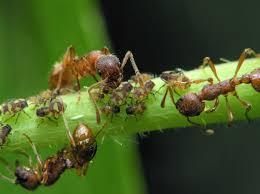Insects: (160, 48, 260, 134), (1, 113, 108, 193), (43, 41, 148, 98), (34, 97, 69, 125), (1, 95, 34, 122), (124, 98, 152, 121), (97, 98, 120, 121), (0, 118, 16, 149)
